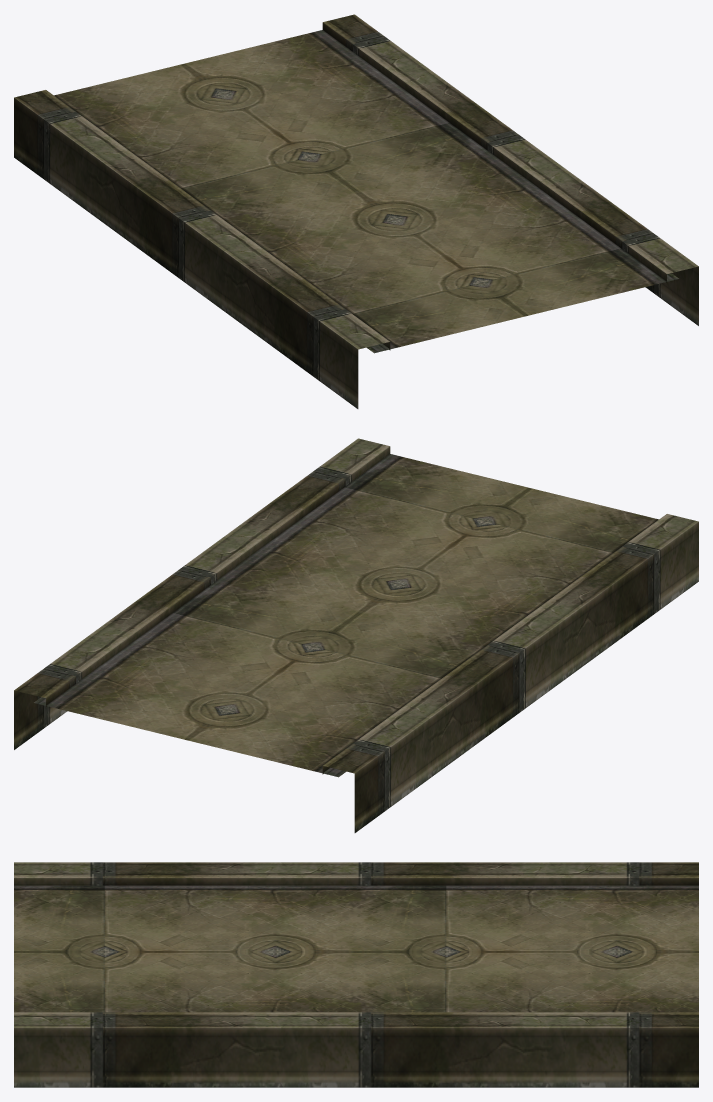
File: mlzd_dm_01.FBX
3 views of the same model, one above another, from view 1: azimuth 30°, elevation 25°; view 2: azimuth 150°, elevation 25°; view 3: azimuth 270°, elevation 25° (orthographic).
Parts seen in each view (by area): view 1: mlzd_dm_01; view 2: mlzd_dm_01; view 3: mlzd_dm_01.
Part boxes in pixels (x1,y1,x2,y2): mlzd_dm_01: (14, 14, 698, 408); mlzd_dm_01: (14, 438, 698, 832); mlzd_dm_01: (14, 862, 698, 1087).
Size of the model in its own units: 1492 by 251 by 2611.
